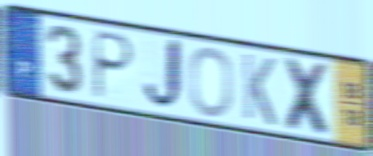3: (45, 24, 85, 97)
J: (141, 35, 186, 116)
K: (240, 50, 279, 130)
O: (188, 45, 234, 120)
P: (90, 27, 137, 102)
X: (282, 54, 335, 141)
